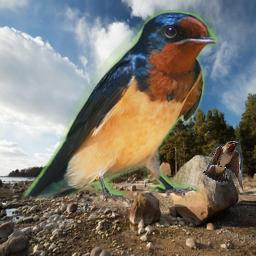Swallow: (21, 10, 218, 207), (203, 141, 243, 191)
